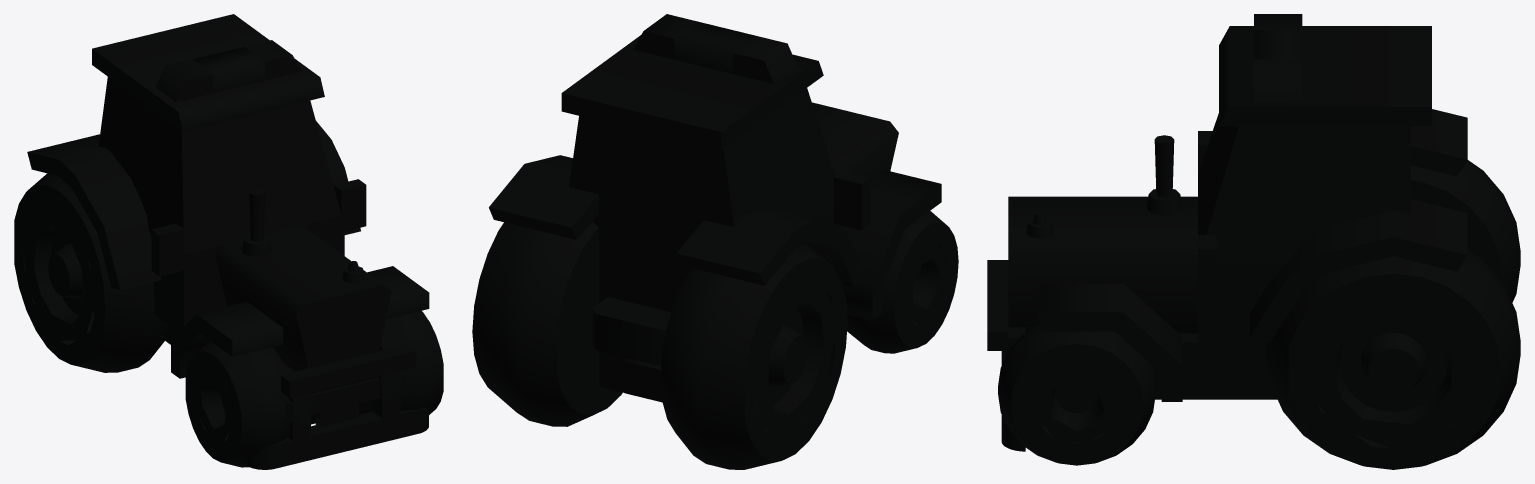
Rendered from tractor-police.glb.
The picture shows the model from 3 angles, left to right: view 1: azimuth 30°, elevation 25°; view 2: azimuth 150°, elevation 25°; view 3: azimuth 270°, elevation 25°; orthographic projection. The views are drawn at different scales.
Visible parts, largest first — view 1: body, wheel-back-right, wheel-front-right, grill, wheel-front-left; view 2: body, wheel-back-right, wheel-back-left, wheel-front-right; view 3: body, wheel-back-left, wheel-front-left, wheel-back-right, grill.
Part boxes in pixels (x1,y1,x2,y2): body: (27,14,429,426); wheel-back-right: (14,173,172,372); wheel-front-right: (185,341,290,467); grill: (247,371,428,469); wheel-front-left: (359,311,443,414); body: (489,14,941,402); wheel-back-right: (660,243,847,469); wheel-back-left: (472,221,622,426); wheel-front-right: (847,211,958,353); body: (987,14,1467,401); wheel-back-left: (1266,249,1520,469); wheel-front-left: (998,324,1155,465); wheel-back-right: (1411,160,1520,302); grill: (1001,327,1049,451).
Bounding box in the file's own units: 1.34 × 1.7 × 2.2.
Materials: 1 (1 with a texture image).
